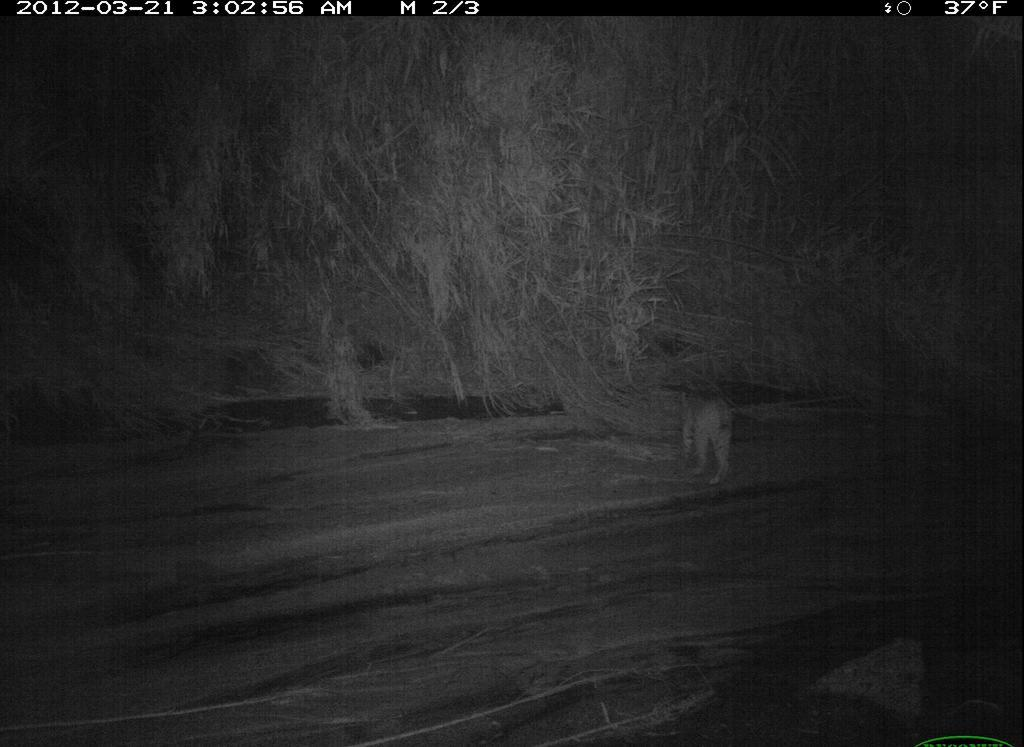bobcat: (649, 381, 747, 492)
